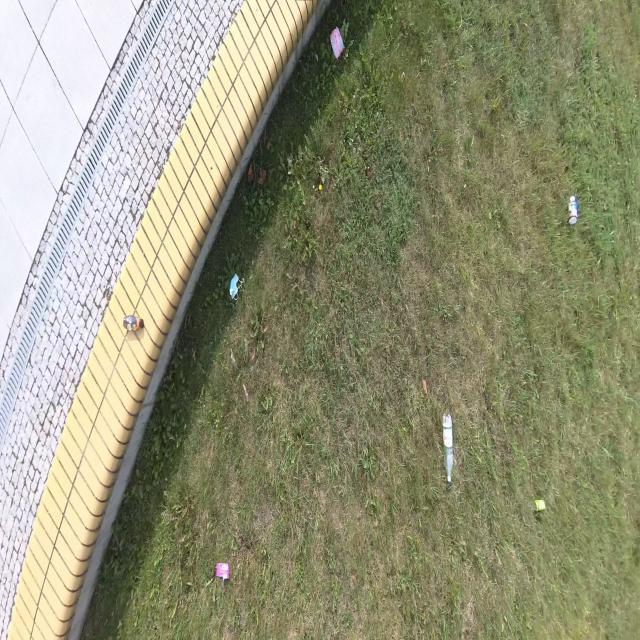rubbish: (442, 412, 453, 491), (329, 28, 346, 58), (123, 316, 143, 332), (229, 272, 240, 298), (567, 195, 577, 223), (216, 560, 229, 578), (533, 498, 546, 513)
